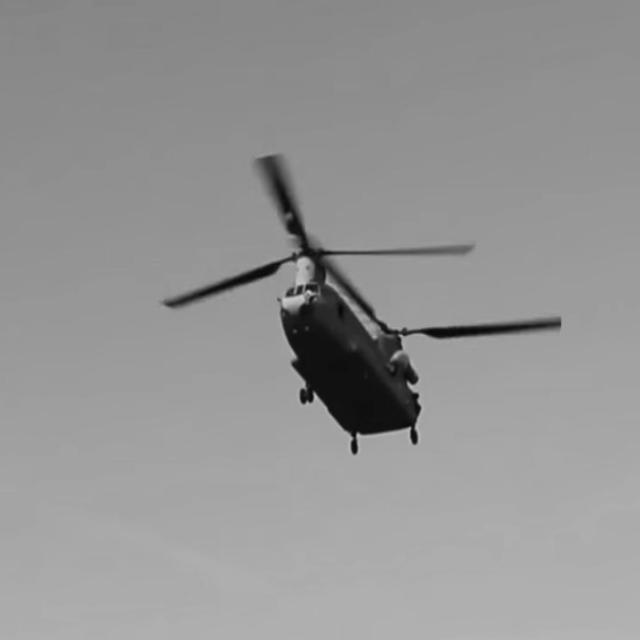Helicopter: (165, 154, 561, 450)
